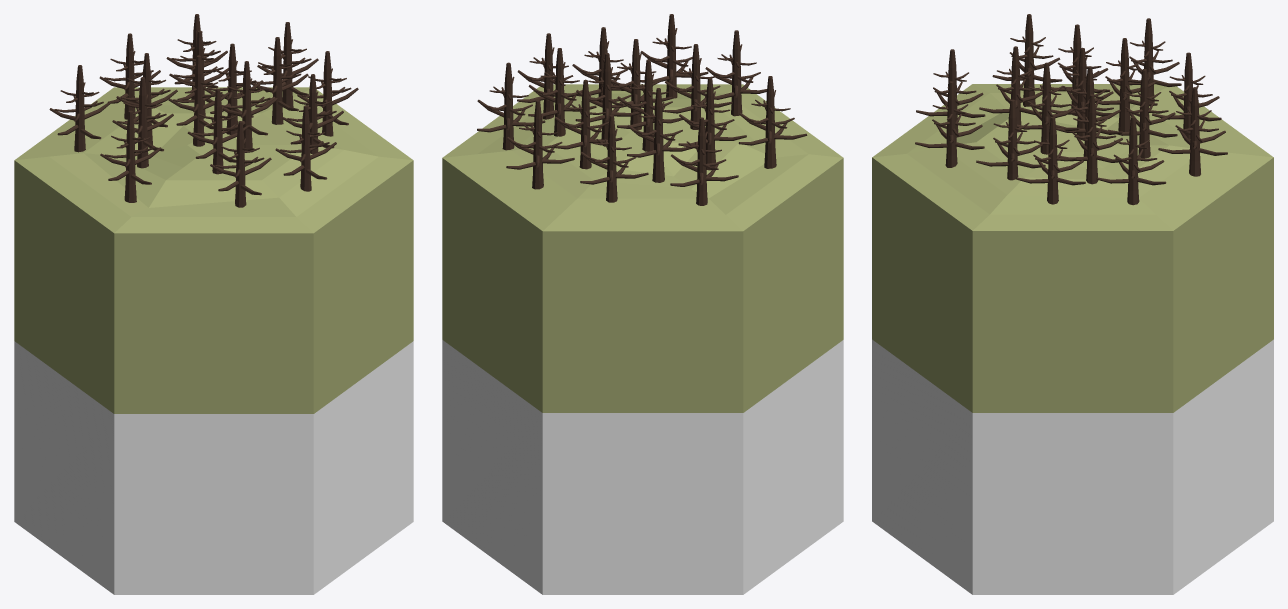
The model's file is HexCellForestV2.fbx.
The picture shows the model from 3 angles, left to right: view 1: azimuth 30°, elevation 25°; view 2: azimuth 150°, elevation 25°; view 3: azimuth 270°, elevation 25°; orthographic projection.
Visible parts, largest first — view 1: Circle.001; view 2: Circle.001; view 3: Circle.001.
Part boxes in pixels (box(x1,y1,x2,y2)): Circle.001: box(14, 14, 413, 594); Circle.001: box(442, 14, 843, 594); Circle.001: box(872, 14, 1273, 594).
Bounding box in the file's own units: 173 × 257 × 200.
